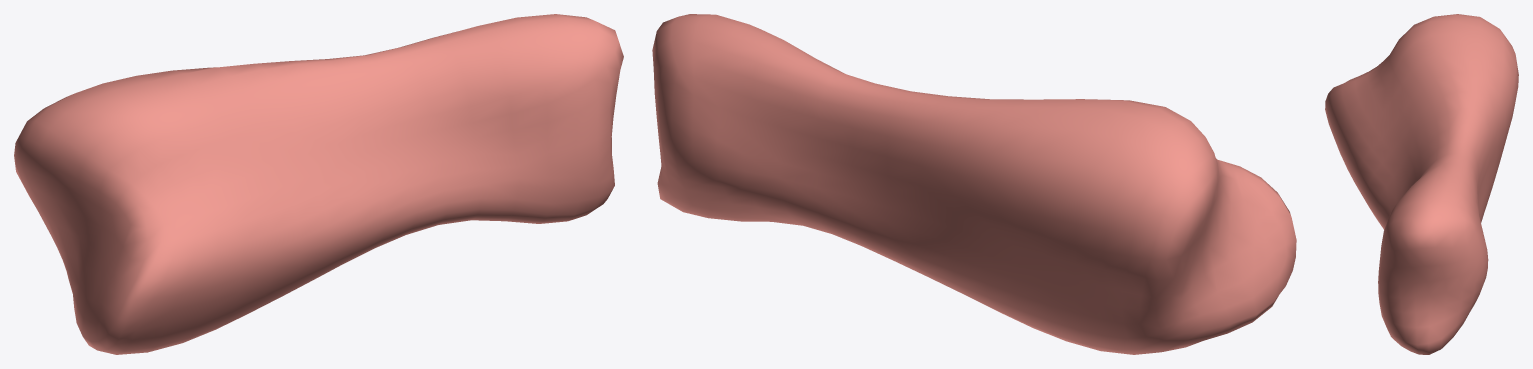
File: mixamo_humanoid_surface_leftForeArm.fbx
The picture shows the model from 3 angles, left to right: view 1: azimuth 30°, elevation 25°; view 2: azimuth 150°, elevation 25°; view 3: azimuth 270°, elevation 25°; orthographic projection. The views are drawn at different scales.
Parts seen in each view (by area): view 1: surface_LeftForeArm; view 2: surface_LeftForeArm; view 3: surface_LeftForeArm.
Part boxes in pixels (x1=…): surface_LeftForeArm: x1=14, y1=14, x2=623, y2=354; surface_LeftForeArm: x1=652, y1=14, x2=1296, y2=354; surface_LeftForeArm: x1=1325, y1=14, x2=1518, y2=354.
Size of the model in its own units: 27.23 by 10.91 by 10.56.
